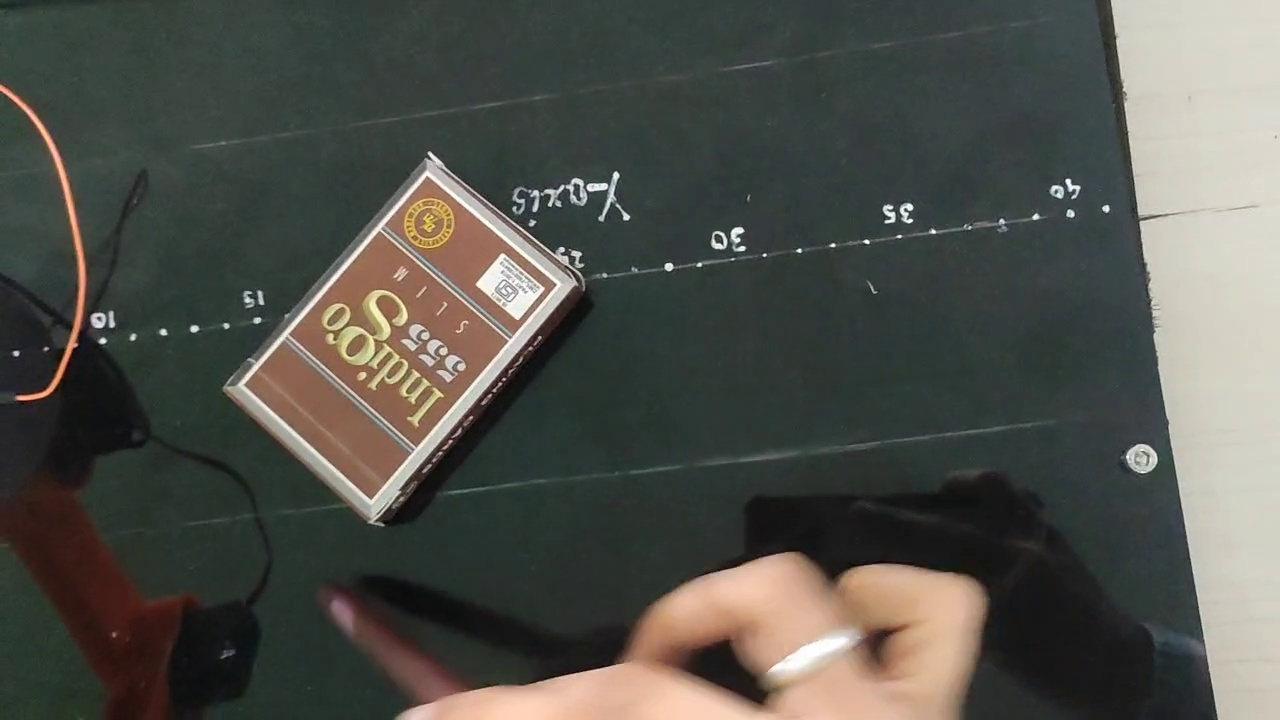BEX: (237, 169, 561, 503)
